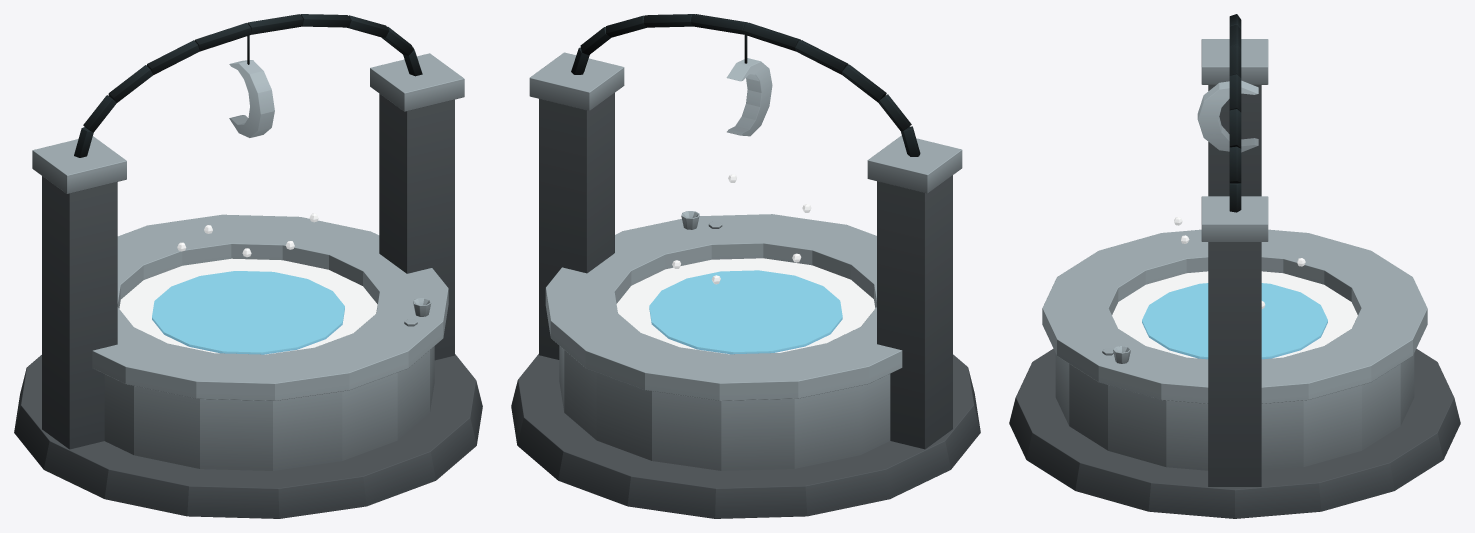
Rendered from moon_well.glb.
3 views of the same model, side by side, from view 1: azimuth 30°, elevation 25°; view 2: azimuth 150°, elevation 25°; view 3: azimuth 270°, elevation 25° (orthographic). The views are drawn at different scales.
Visible parts, largest first — view 1: moon_well; view 2: moon_well; view 3: moon_well.
Part boxes in pixels (box(x1,y1,x2,y2)): moon_well: box(14, 14, 482, 518); moon_well: box(511, 14, 980, 518); moon_well: box(1009, 14, 1460, 518).
Size of the model in its own units: 3.4 by 3.15 by 3.4.
5 materials, 5 textured.
